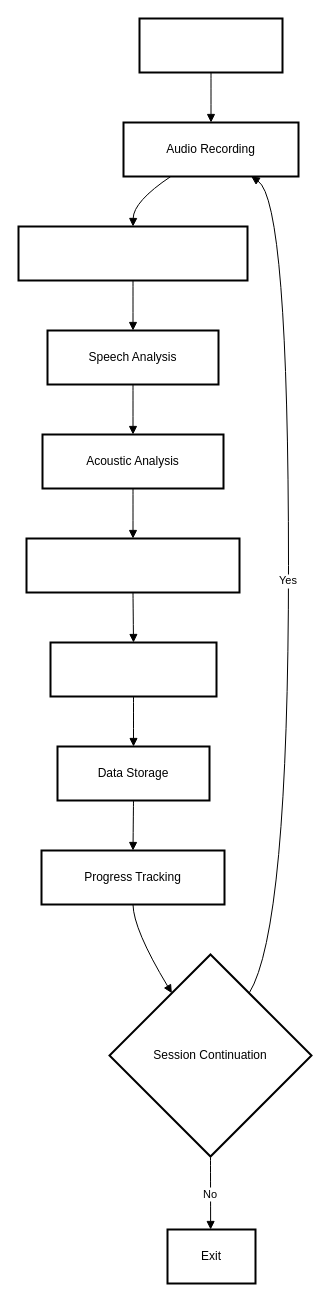
Some shapes in this 329 by 1301 pixel diagram are drawn without their labels. Each missing label, with the centre of its shape:
"App Launch" belongs at pixel 210 45.
"Feedback Generation" belongs at pixel 132 565.
"Real-Time Transcription" belongs at pixel 132 253.
"Results Display" belongs at pixel 133 669.
